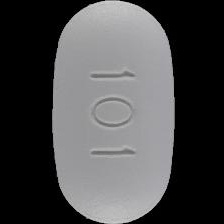54868-4817: (0, 0, 224, 224)
